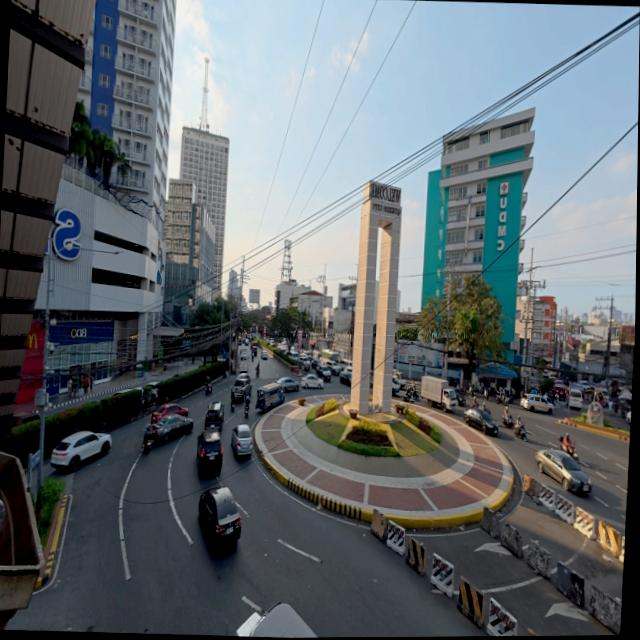car: (193, 487, 242, 559), (46, 428, 110, 470), (141, 411, 196, 450), (230, 422, 255, 456), (525, 393, 555, 413), (275, 375, 298, 392)
